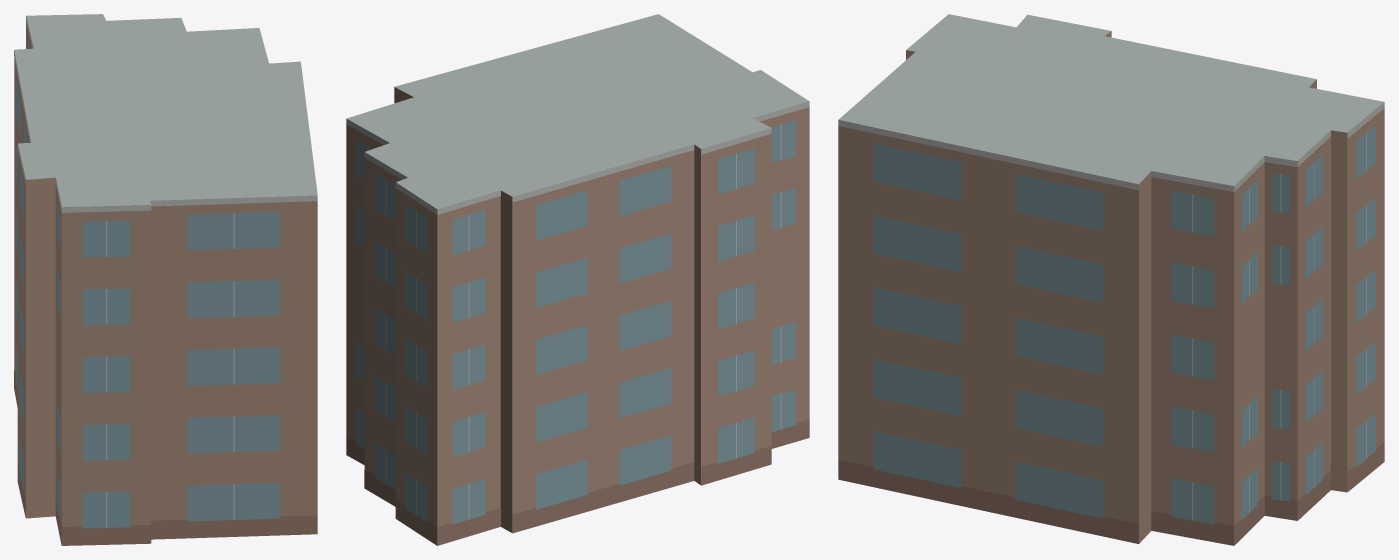
Rendered from survey-upis-32513001.glb.
The picture shows the model from 3 angles, left to right: view 1: azimuth 30°, elevation 25°; view 2: azimuth 150°, elevation 25°; view 3: azimuth 270°, elevation 25°; orthographic projection. The views are drawn at different scales.
Visible parts, largest first — view 1: survey-upis-32513001.tmp; view 2: survey-upis-32513001.tmp; view 3: survey-upis-32513001.tmp.
Part boxes in pixels (left/top/right/bottom): survey-upis-32513001.tmp: left=14, top=14, right=317, bottom=545; survey-upis-32513001.tmp: left=346, top=14, right=809, bottom=545; survey-upis-32513001.tmp: left=838, top=14, right=1384, bottom=545.
Size of the model in its own units: 14.88 by 14.5 by 19.97.
